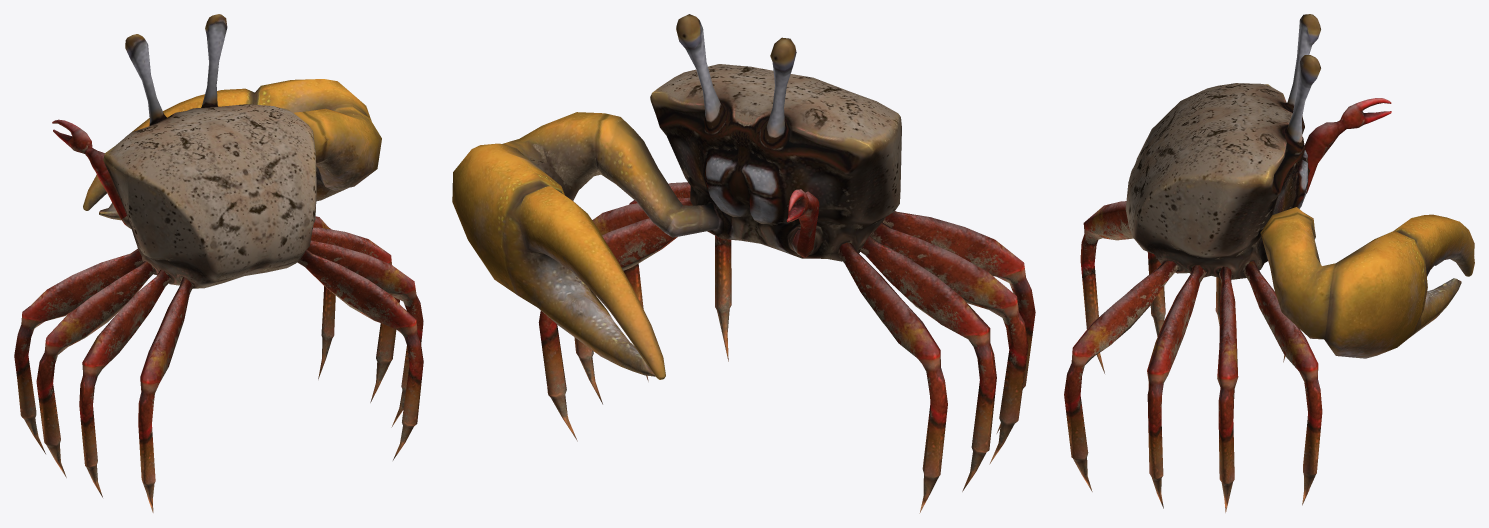
File: crab.obj
The picture shows the model from 3 angles, left to right: view 1: azimuth 30°, elevation 25°; view 2: azimuth 150°, elevation 25°; view 3: azimuth 270°, elevation 25°; orthographic projection. The views are drawn at different scales.
Visible parts, largest first — view 1: crab; view 2: crab; view 3: crab.
Boxes of the visible parts, <box> form: crab: <box>14,14,423,512</box>; crab: <box>452,14,1035,513</box>; crab: <box>1064,14,1474,512</box>.
Size of the model in its own units: 2.98 by 2.79 by 2.59.
1 material, 1 textured.
